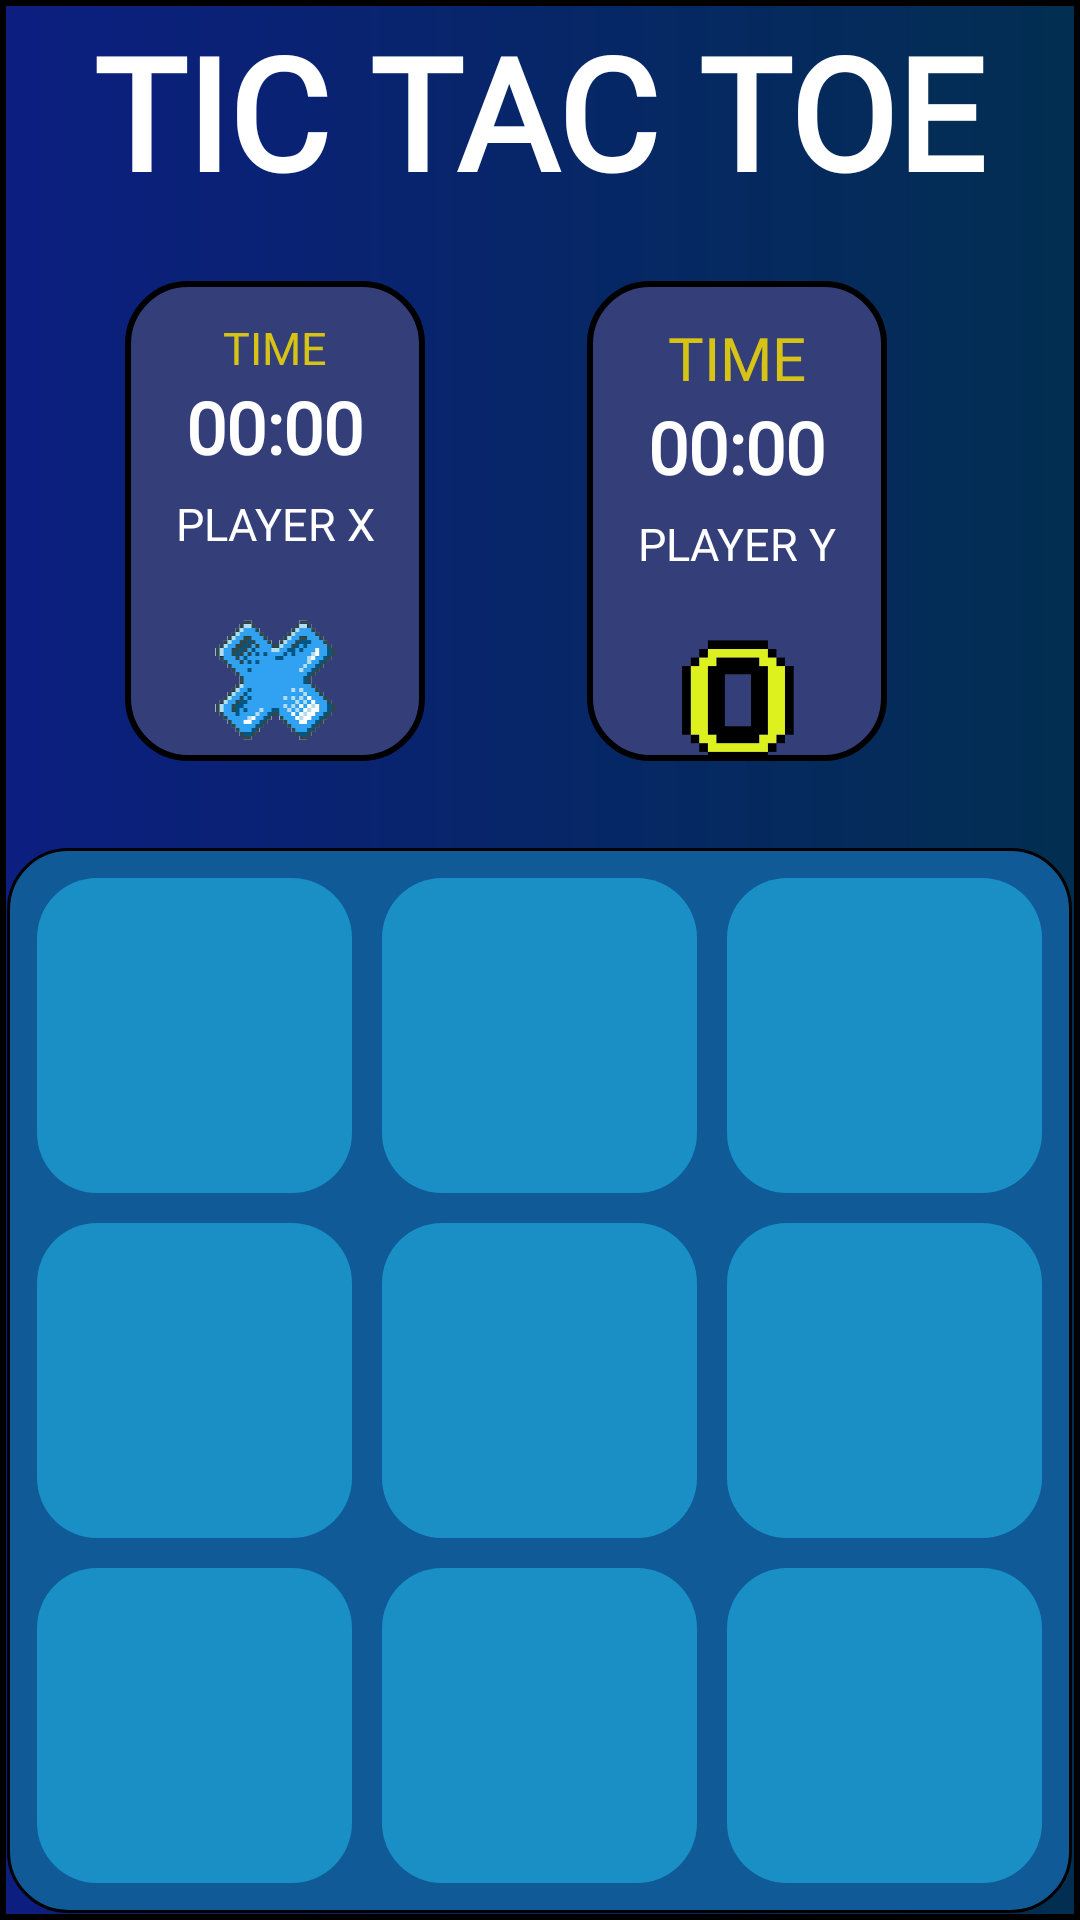

Named icons in this screenshot (1080 × 1920) and their centers, (x,y):
cross: (275,680)
